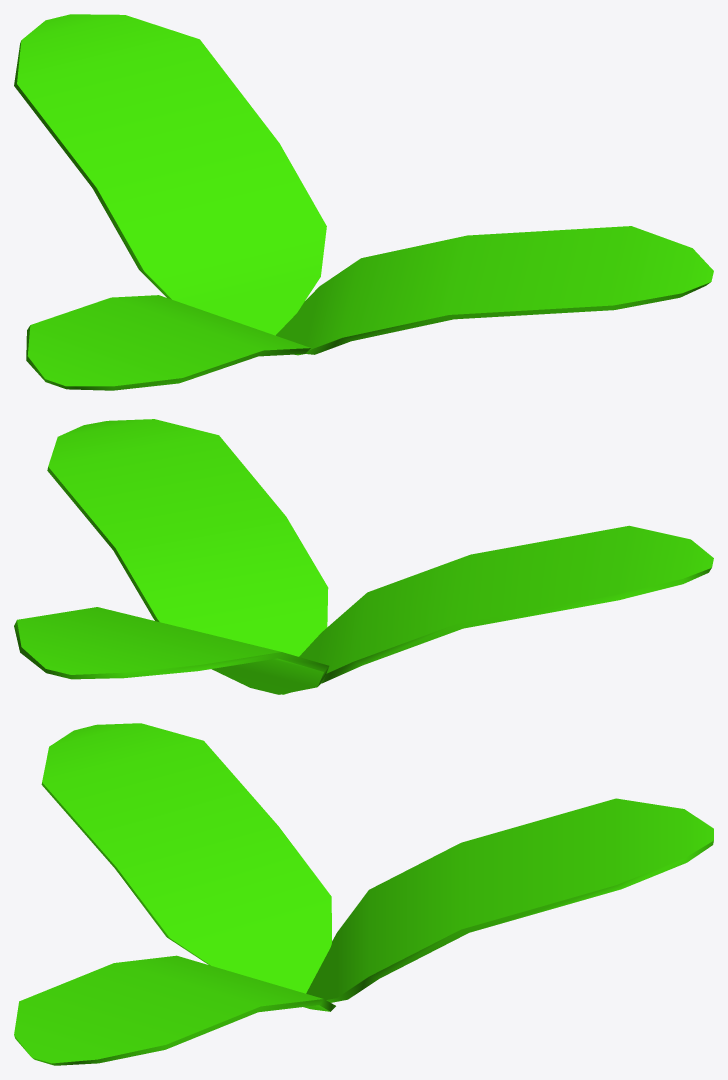
The model's file is LiveGrass5.fbx.
3 views of the same model, one above another, from view 1: azimuth 30°, elevation 25°; view 2: azimuth 150°, elevation 25°; view 3: azimuth 270°, elevation 25° (orthographic). The views are drawn at different scales.
Parts seen in each view (by area): view 1: Grass.007; view 2: Grass.007; view 3: Grass.007.
Boxes of the visible parts, <box> form: Grass.007: <box>14,14,713,390</box>; Grass.007: <box>14,419,713,694</box>; Grass.007: <box>14,723,713,1065</box>.
Bounding box in the file's own units: 177 × 44.82 × 170.
